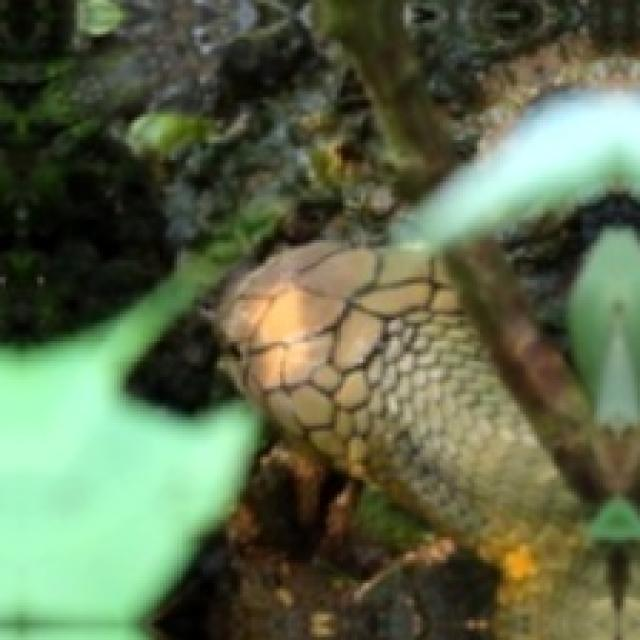king cobra: (217, 243, 609, 637)
